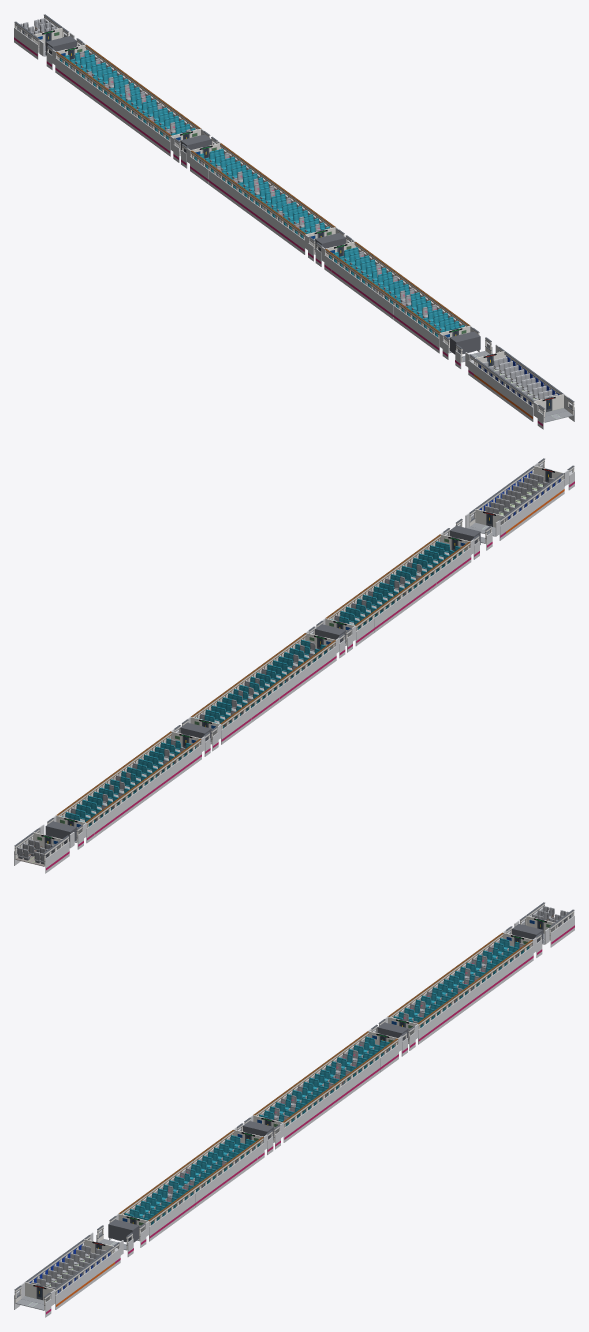
The model's file is car_ekonomiTosca.glb.
3 renders of one model, top to bottom at view 1: azimuth 30°, elevation 25°; view 2: azimuth 150°, elevation 25°; view 3: azimuth 330°, elevation 25°, orthographic.
Visible parts, largest first — view 1: global_st_0; view 2: no part large enough to name; view 3: global_st_0.
Part boxes in pixels (x1=…): global_st_0: x1=449, y1=331, x2=480, y2=354; global_st_0: x1=108, y1=1219, x2=139, y2=1242.
Bounding box in the file's own units: 3.39 × 2.07 × 97.58.
Materials: 51 (9 with a texture image).
